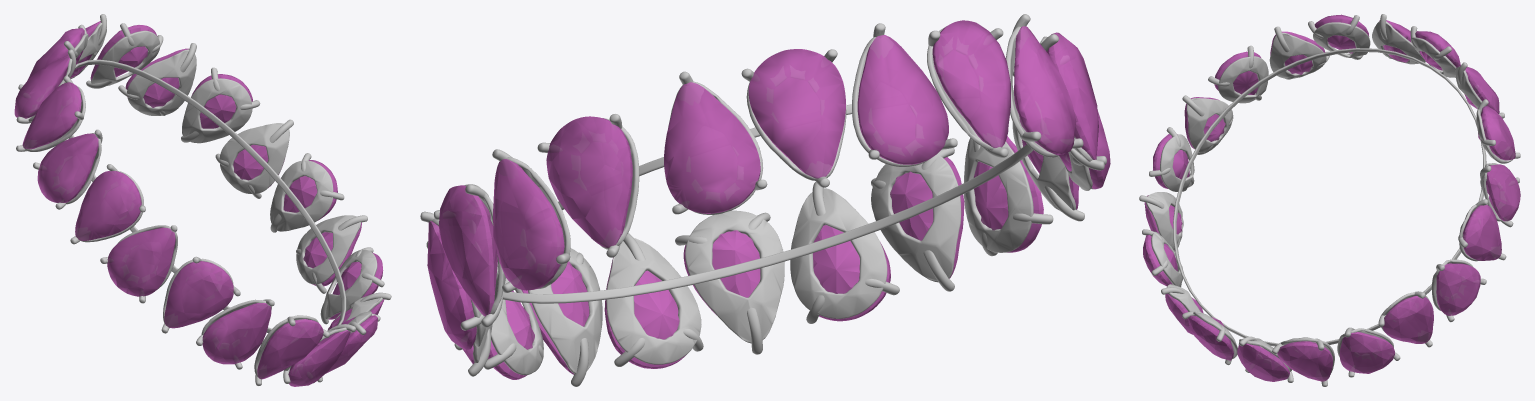
Rendered from jewelry-placement.glb.
The picture shows the model from 3 angles, left to right: view 1: azimuth 30°, elevation 25°; view 2: azimuth 150°, elevation 25°; view 3: azimuth 270°, elevation 25°; orthographic projection. The views are drawn at different scales.
Parts seen in each view (by area): view 1: Object_7, Object_8, Object_5; view 2: Object_7, Object_8, Object_5; view 3: Object_7, Object_8, Object_5.
Boxes of the visible parts, x1,y1,x2,y2 form: Object_7: (14, 21, 384, 386); Object_8: (16, 14, 391, 385); Object_5: (68, 59, 346, 333); Object_7: (427, 20, 1110, 379); Object_8: (420, 14, 1106, 386); Object_5: (503, 91, 1033, 303); Object_7: (1143, 14, 1520, 381); Object_8: (1139, 14, 1520, 386); Object_5: (1173, 48, 1486, 346).
Bounding box in the file's own units: 13.3 × 11.26 × 13.96.
